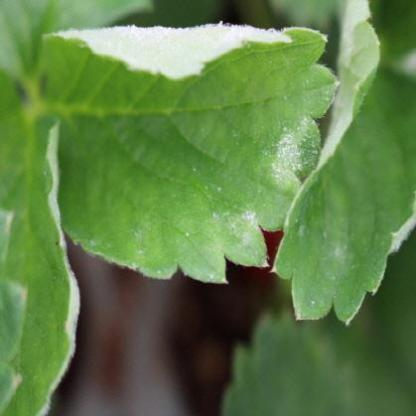Strawberry_Powdery_Mildew_Leaf: (38, 24, 341, 284), (268, 0, 416, 326), (0, 111, 81, 415)
